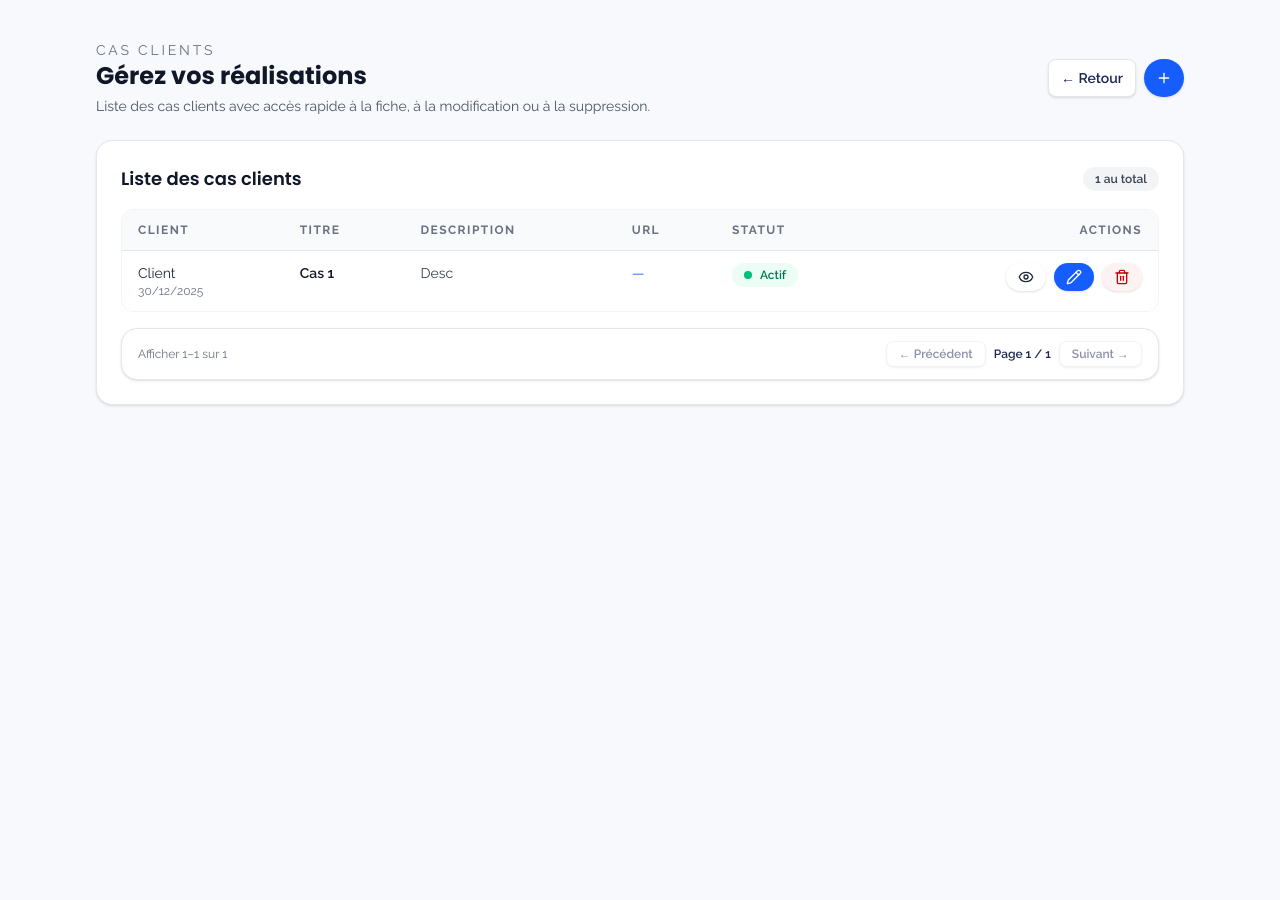
Test: ConfirmModal delete flows across dashboard lists › customer cases list uses confirm modal and closes on delete
Click the button named "supprimer": [1122, 277] box left=1102, top=263, right=1142, bottom=291
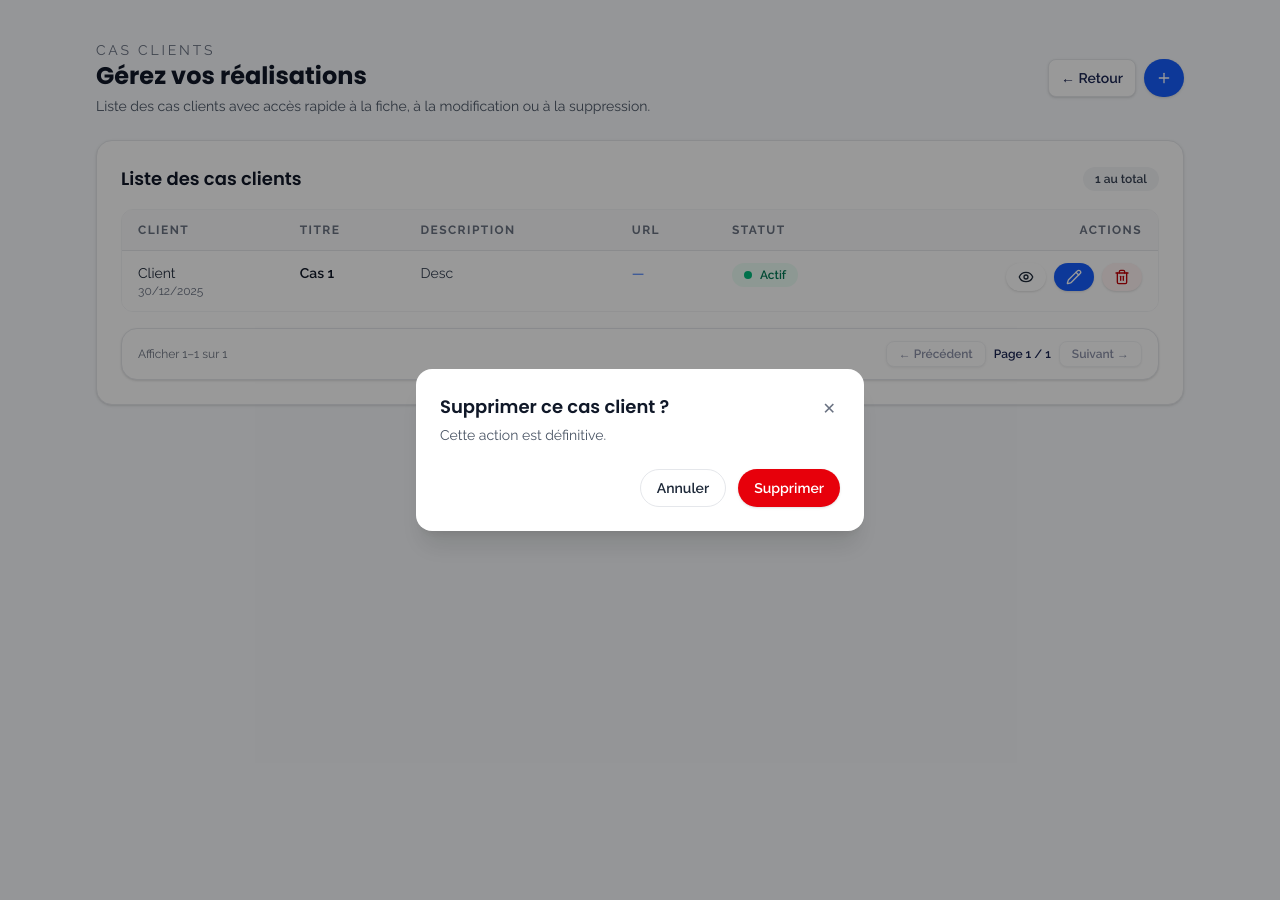
Now the heading "Supprimer ce cas client ?" is shown, box left=440, top=393, right=669, bottom=421
Click the button "Supprimer": [789, 488] box left=738, top=469, right=840, bottom=507
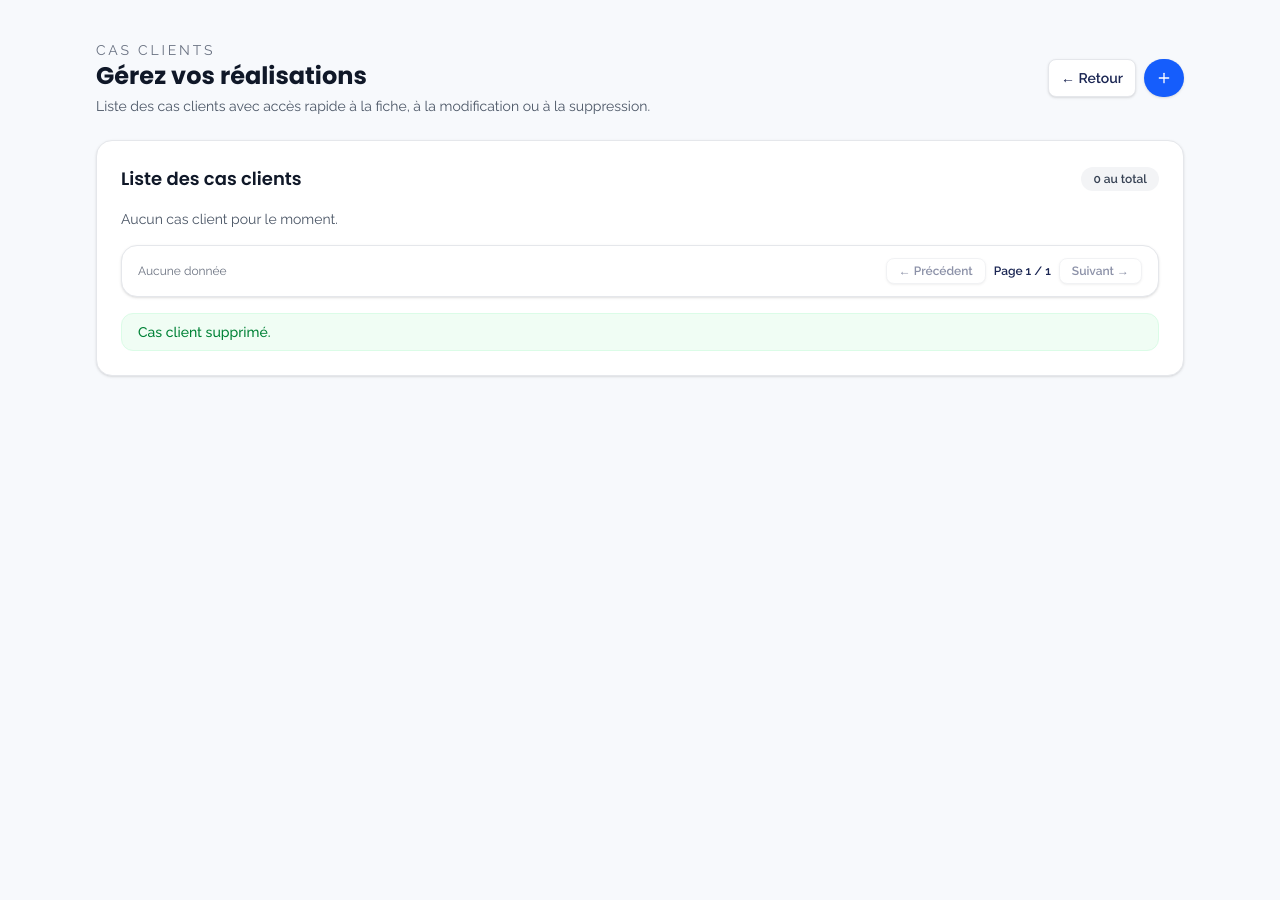
Now the heading "Supprimer ce cas client" is gone
